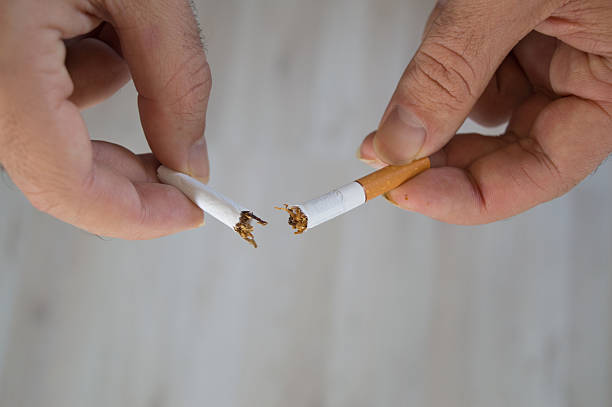cigarette: (284, 156, 430, 231), (158, 164, 259, 249)
